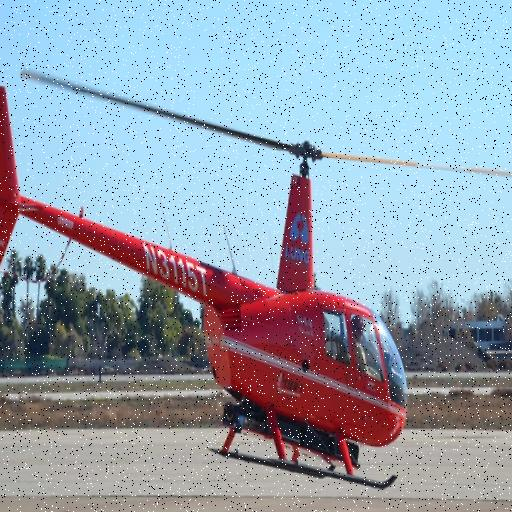helicopter: (1, 67, 512, 497)
